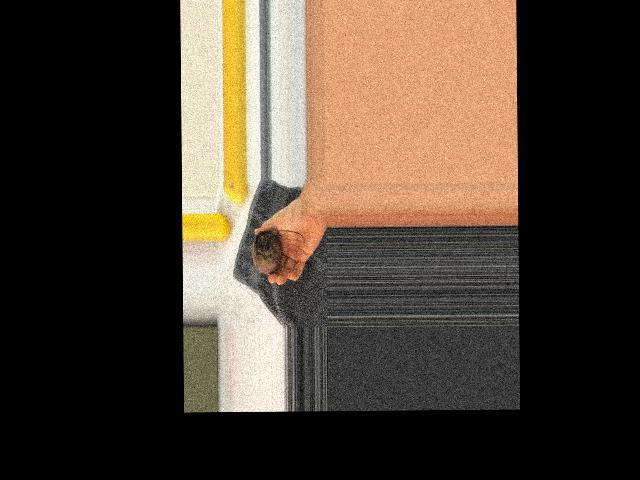beet: (251, 231, 305, 275)
